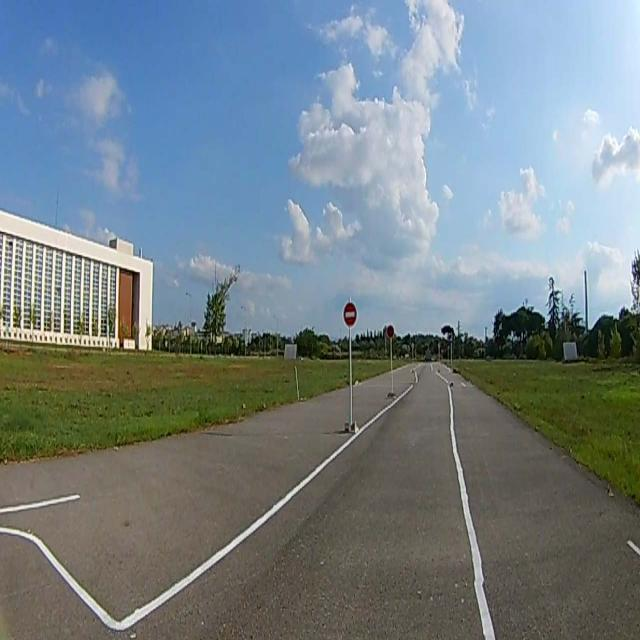girisyok: (343, 303, 356, 325)
